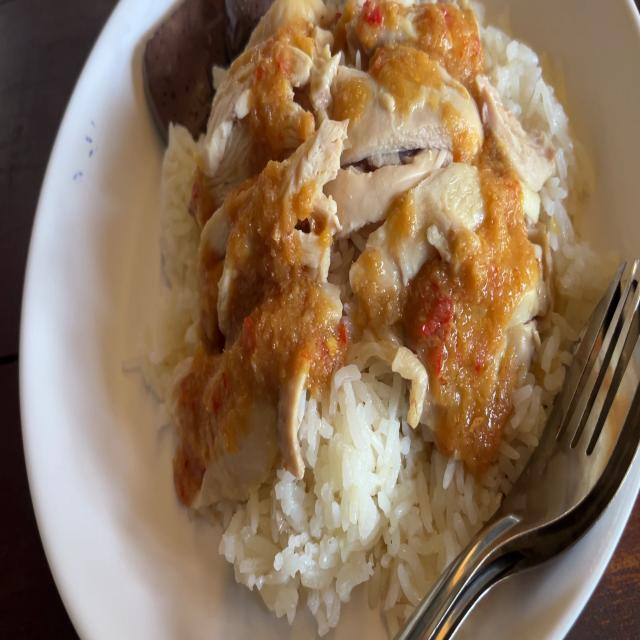chicken_rice: (172, 23, 528, 454)
noodle: (138, 0, 235, 127)
